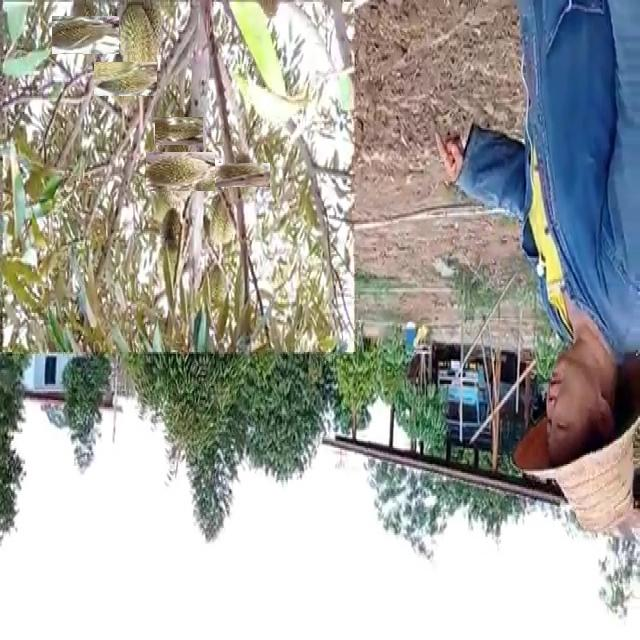durian: (113, 4, 161, 96), (153, 144, 207, 199), (59, 9, 112, 62), (101, 55, 150, 104), (205, 190, 236, 250), (219, 154, 262, 197), (160, 111, 198, 150)
